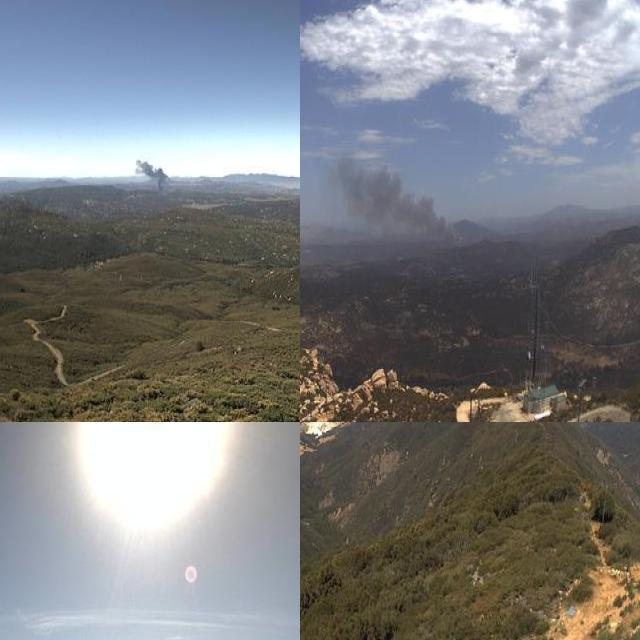smoke: (324, 149, 469, 250), (133, 153, 173, 198)
